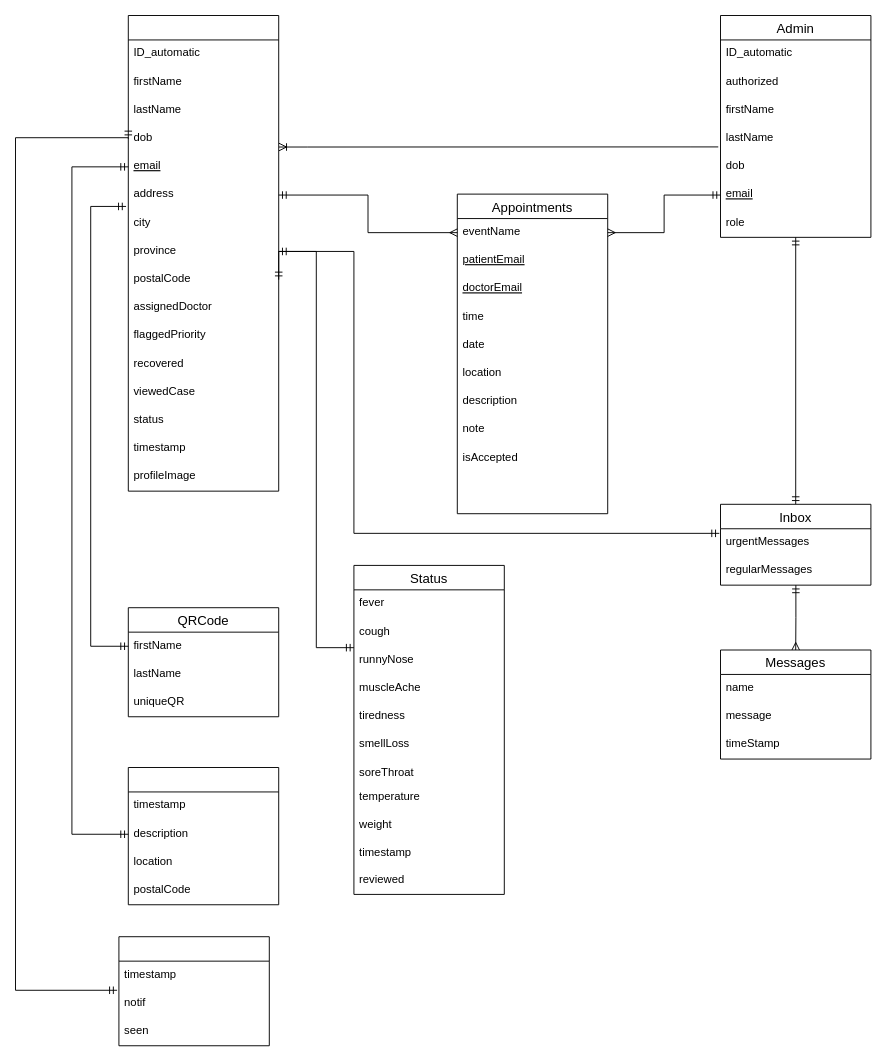
Some shapes in this 886 by 1061 pixel diagram are drawn without their labels. The box of each missing label's shape, as (x1, y1, x2, y2) in pixels:
Client: (127, 15, 279, 491)
Diary: (127, 767, 279, 905)
Notification: (118, 936, 269, 1046)
